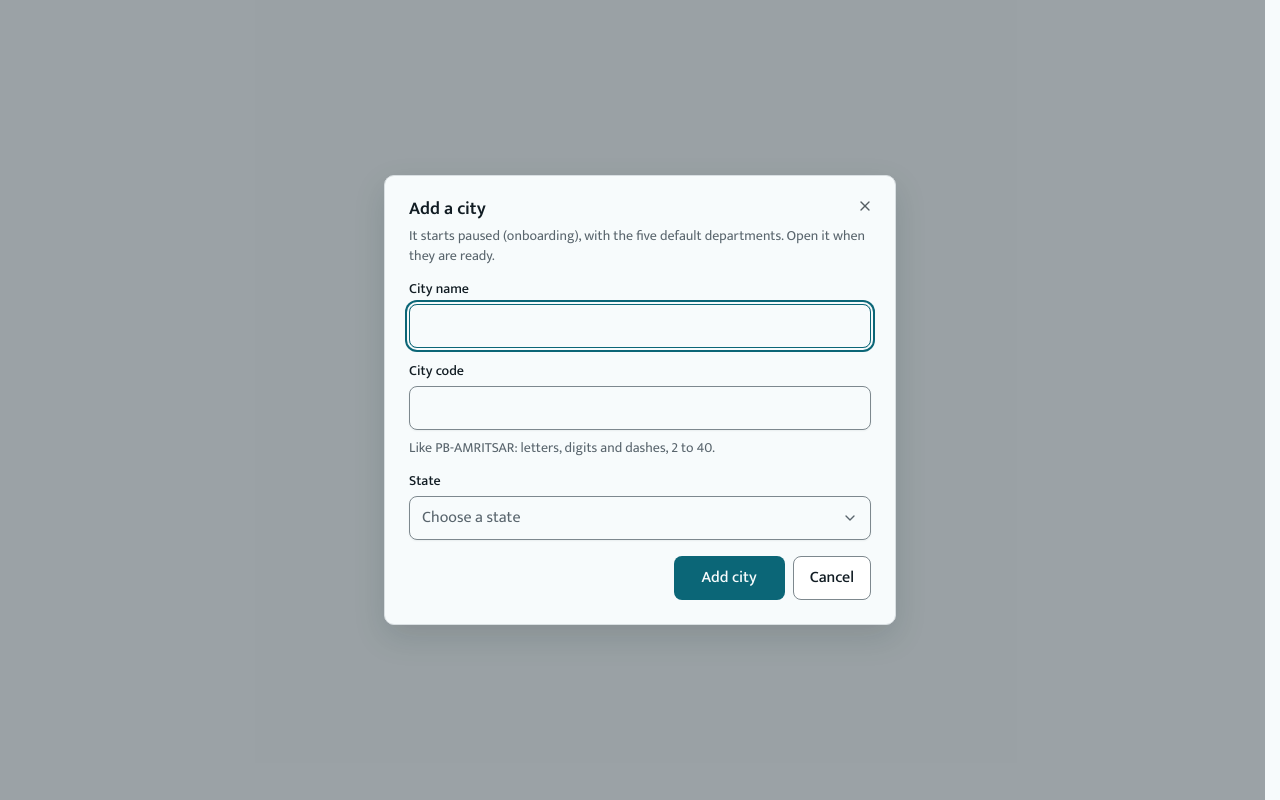
Test: CityFormDialog › checks name, code and state before sending anything
In the field labelled "City name": (640,326) [409,304,871,348], type "J"
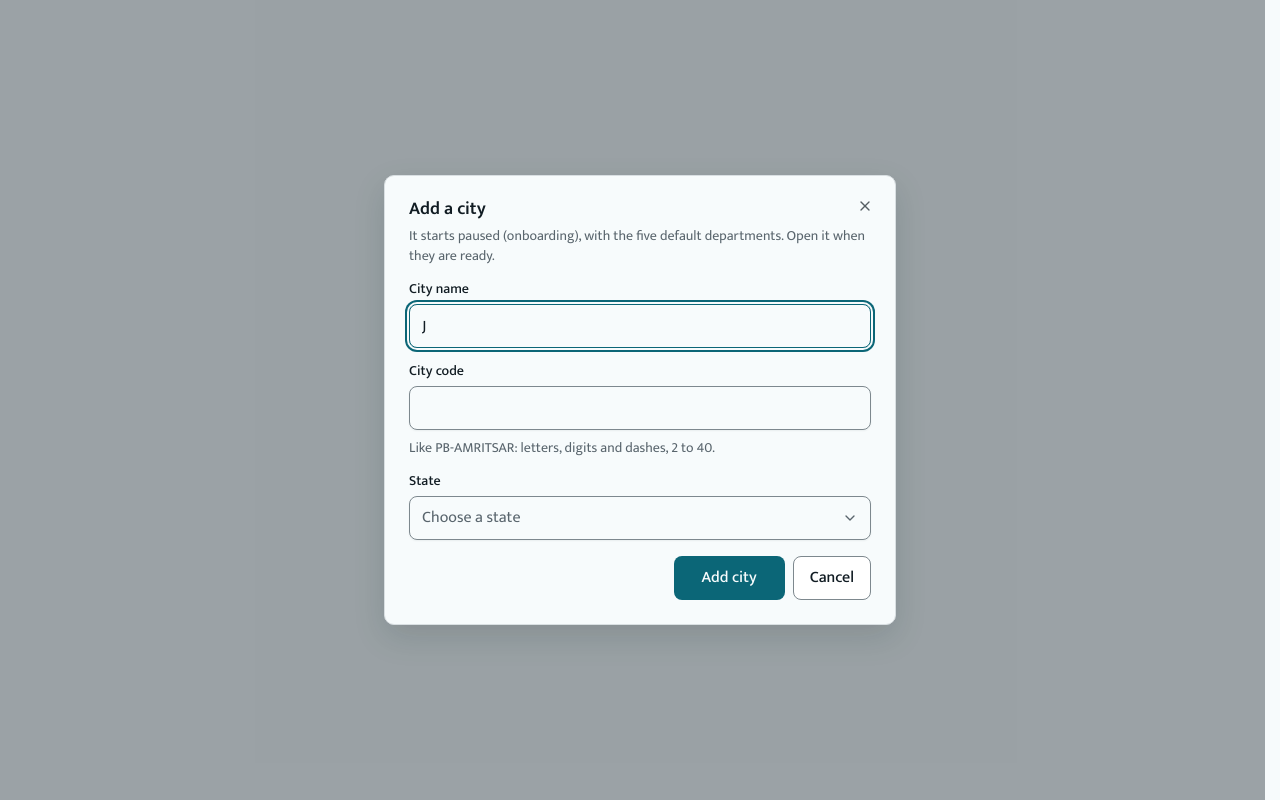
In the field labelled "City code": (640,408) [409,386,871,430], type "-bad"
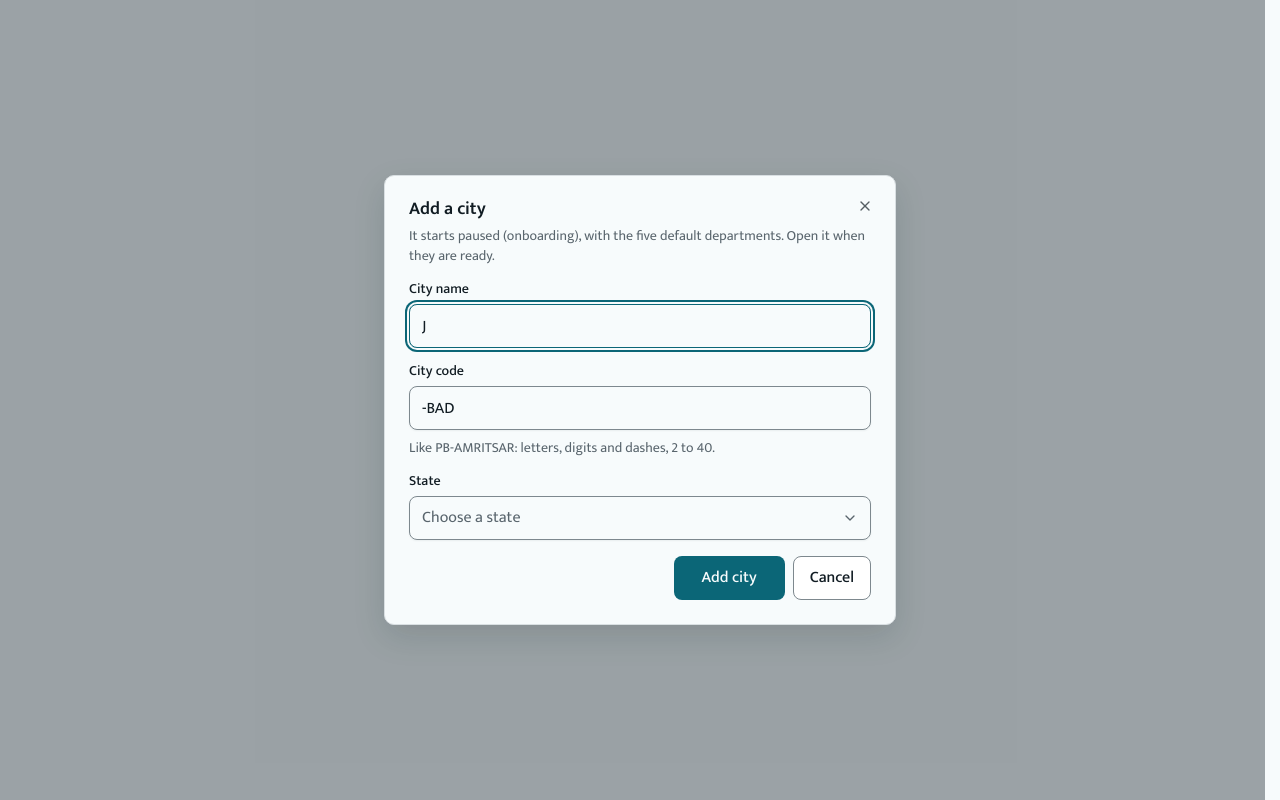
Click the button "Add city": (729,578) [674,556,785,600]
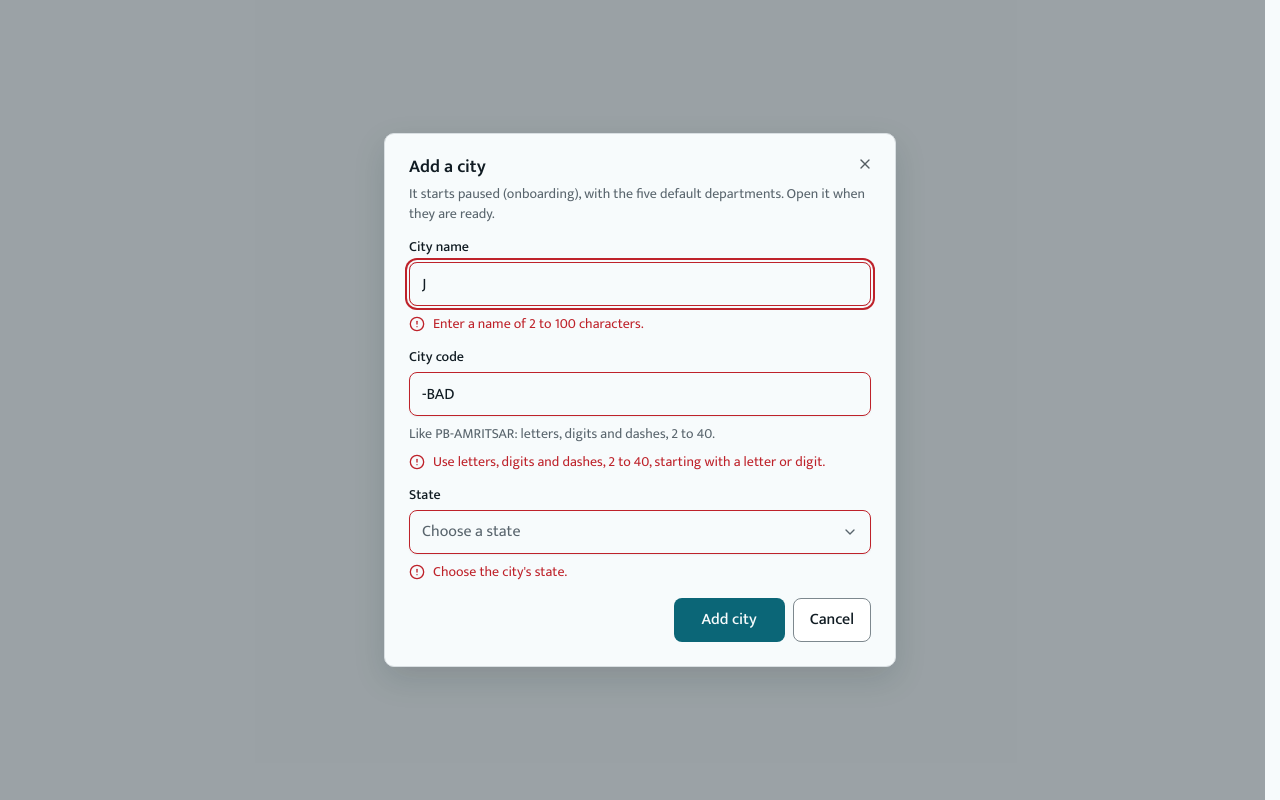
Now the text "Enter a name of 2 to 100 characters." is shown, box [433,314,644,334]
Now the text "Use letters, digits and dashes" is shown, box [433,450,825,473]
Now the text "Choose the city's state." is shown, box [433,562,567,582]
